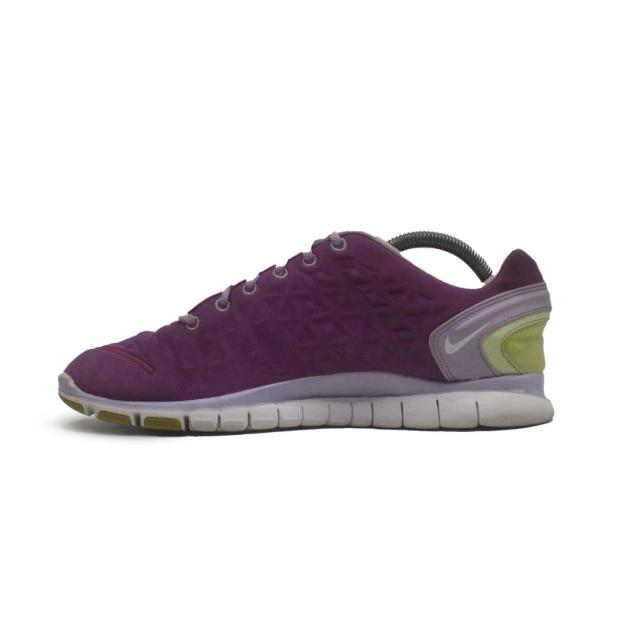heel: (475, 252, 556, 379)
midsole: (57, 369, 552, 430)
uppersole: (63, 228, 492, 397)
